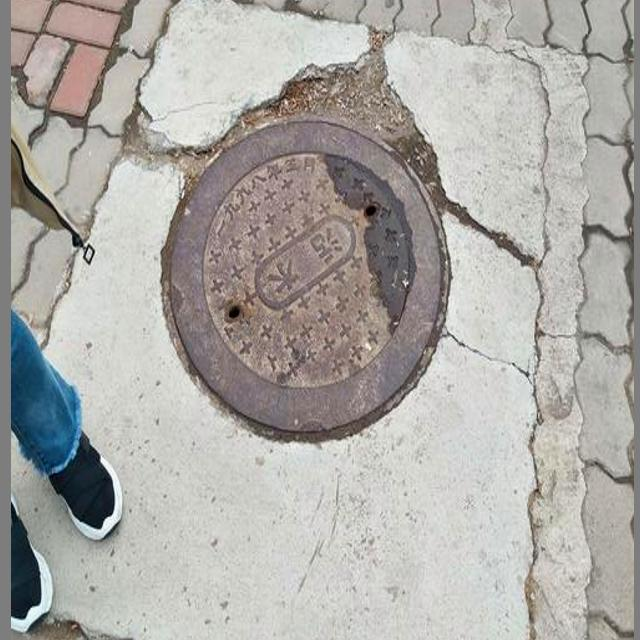circle: (105, 39, 523, 495)
